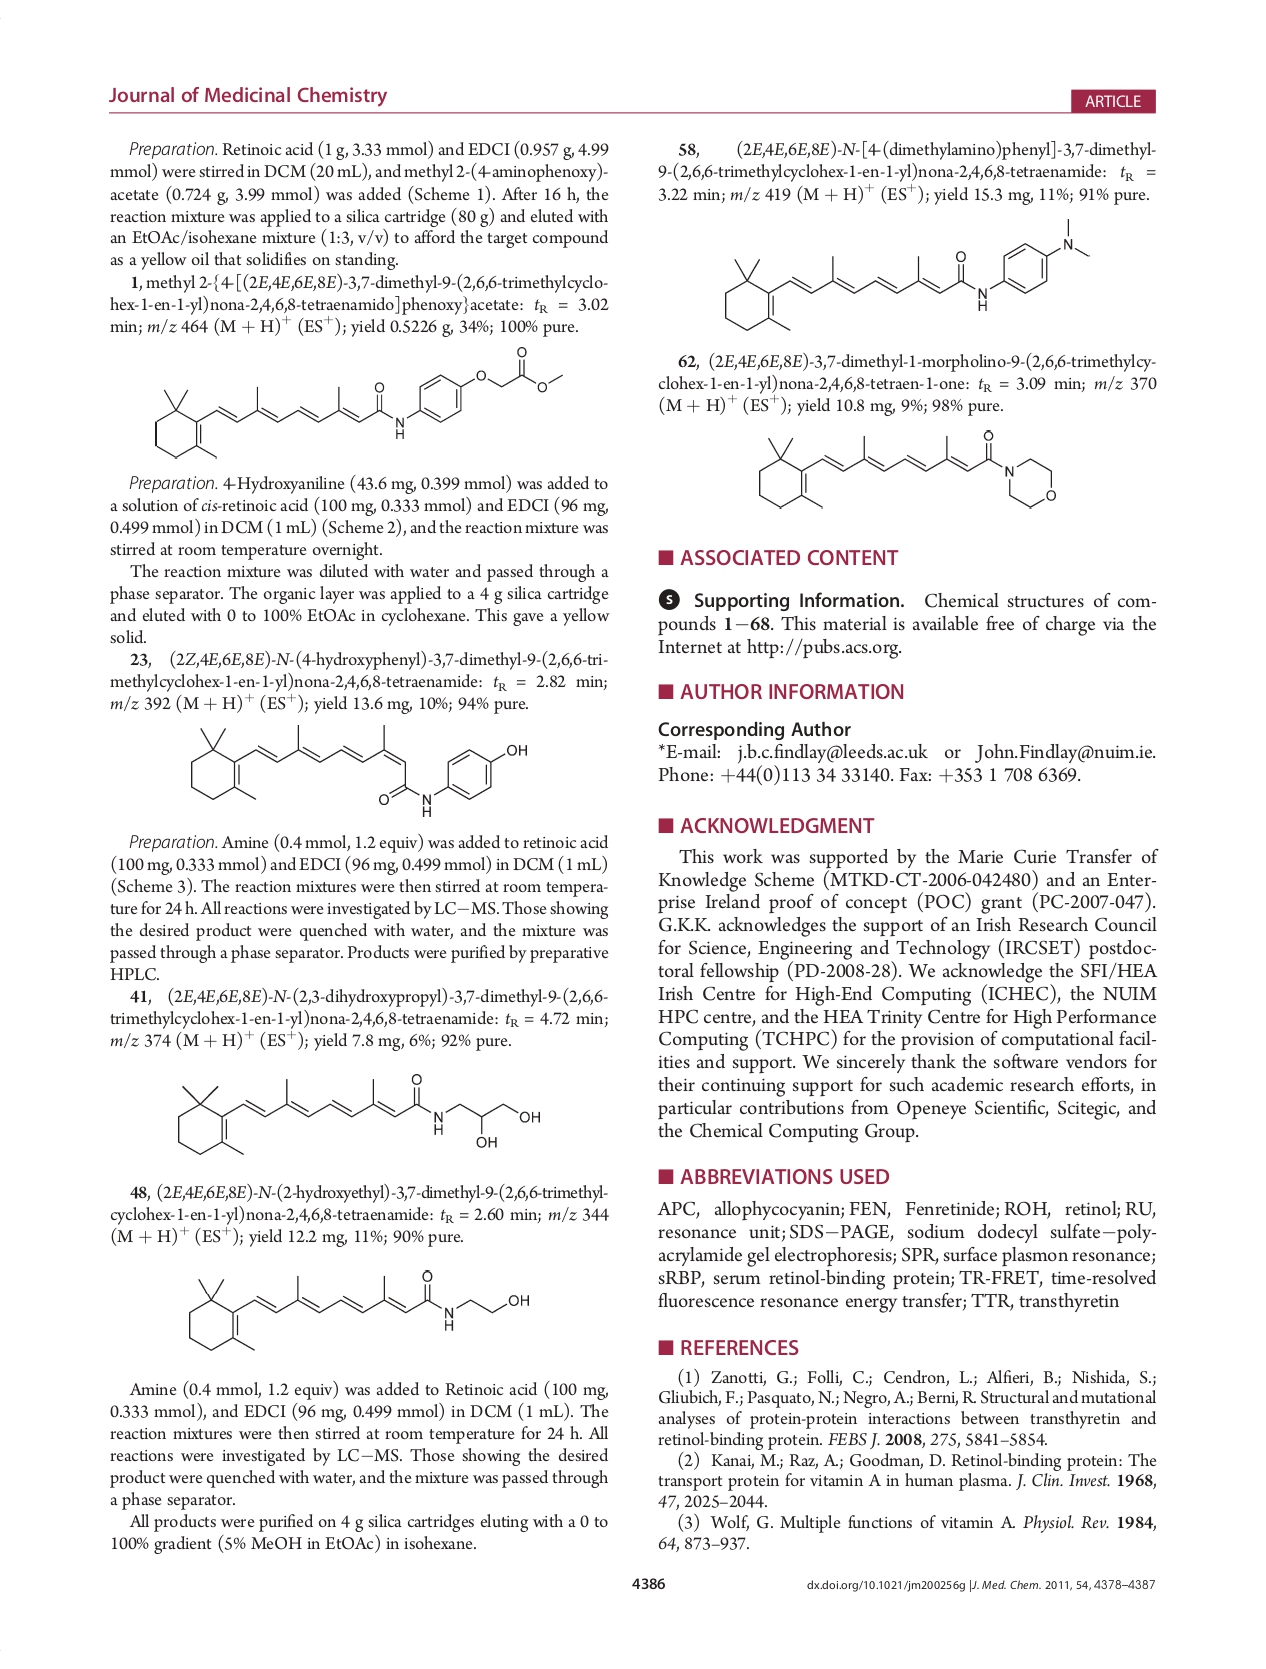exist_molecular: (150, 343, 564, 463), (722, 215, 1094, 336), (184, 719, 531, 821), (172, 1071, 544, 1157), (184, 1263, 535, 1352), (755, 426, 1060, 515)
